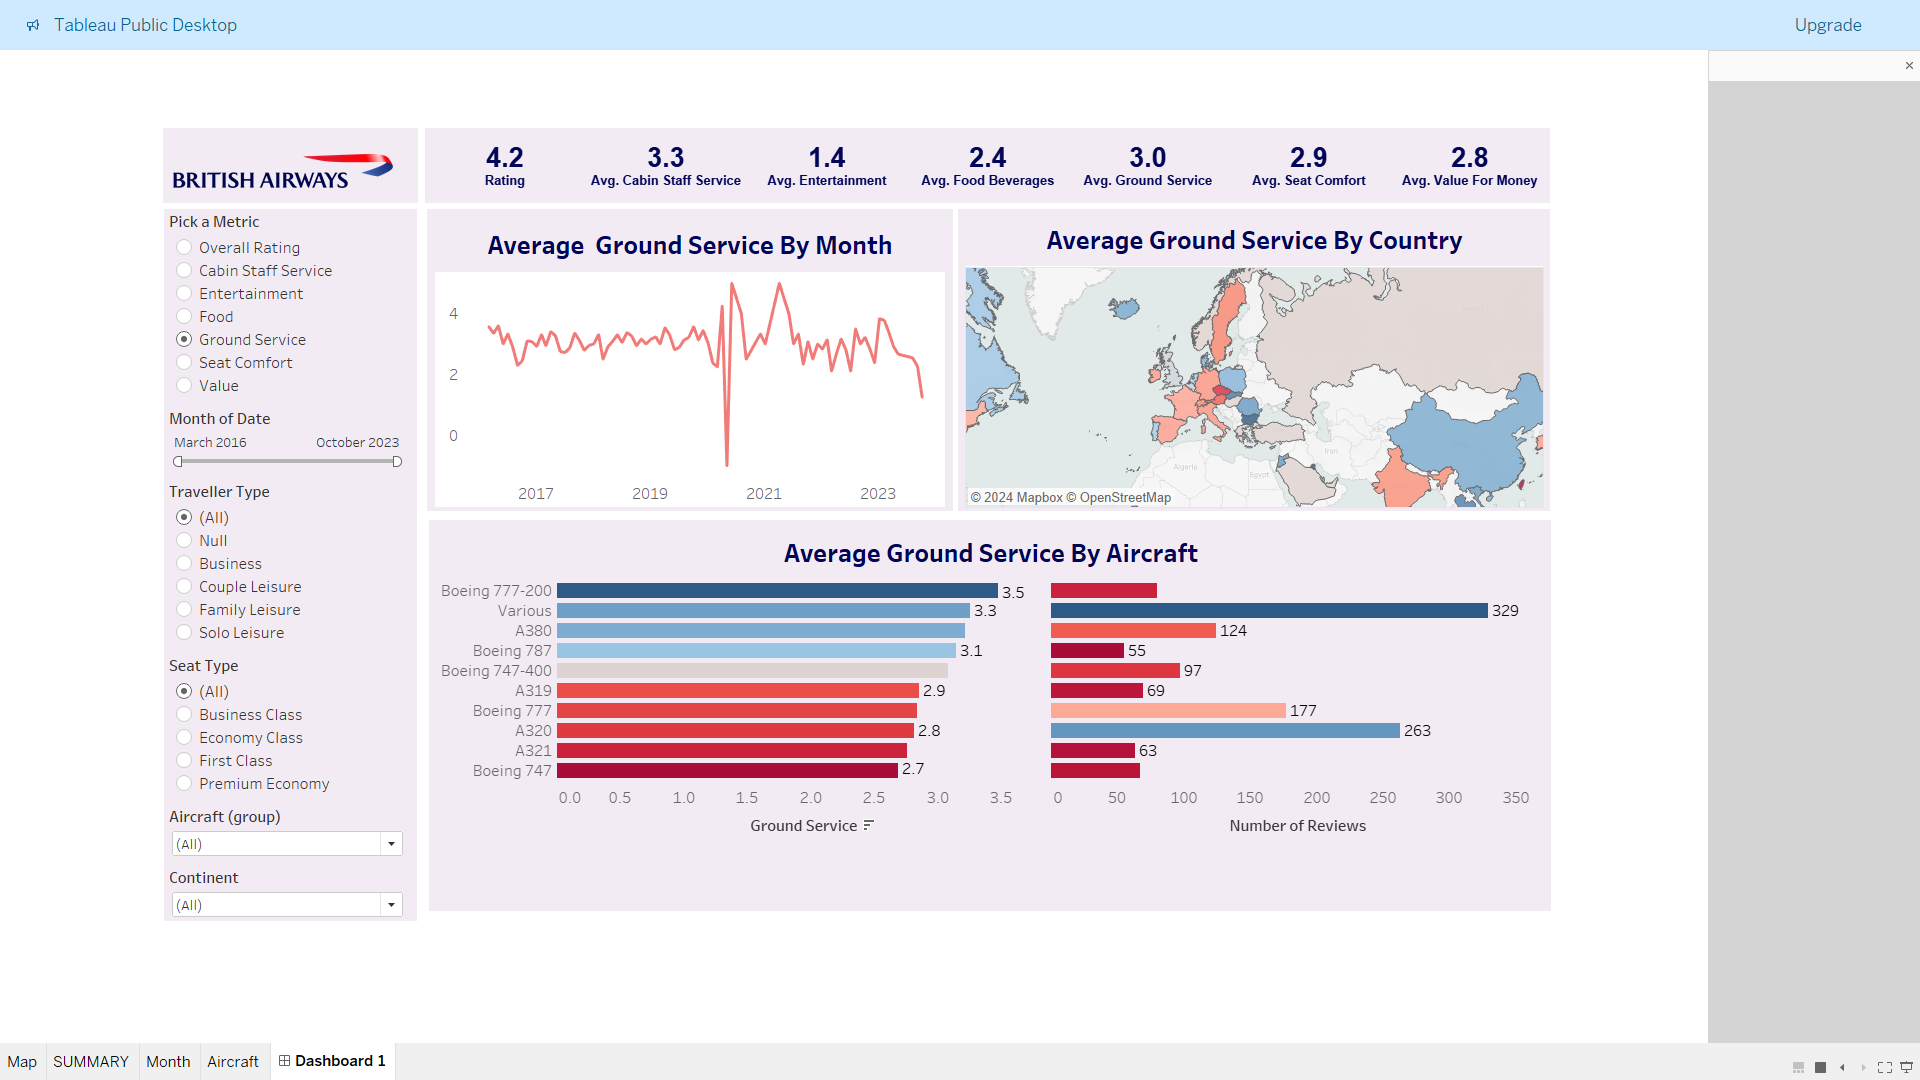

Layout of this report page (visuals, bound fields, positions):
{"tool":"tableau","page":{"name":"Dashboard 1","canvas":[1400,850],"ordinal":0},"visuals":[{"type":"blank","box":[5,3.2,263,82.9]},{"type":"worksheet","title":"SUMMARY","mark":"Automatic","box":[267,3.2,1133,82.9]},{"type":"image","param":"Image/kisspng-british-airways-salzburg-airport-airline-check-in-5ae44ee41b6136.6","box":[7,8.5,243,80.8]},{"type":"parameter","param":"[Parameters].[Parameter 1]","box":[11,85.7,245,197]},{"type":"blank","box":[10,88,253,712]},{"type":"blank","box":[273,88,526,302]},{"type":"blank","box":[804,88,592,302]},{"type":"worksheet","title":"Map","mark":"Multipolygon","box":[811,97,579,290]},{"type":"worksheet","title":"Month","mark":"Automatic","rows":["Calculation_1228075376476176384"],"cols":["date"],"box":[281,102,510,284]},{"type":"filter","title":"Map","param":"[federated.11w8srq1hapd9a16zyrw60xeq5wv].[tmn:date:qk]","box":[11,282.7,245,73]},{"type":"filter","title":"Map","param":"[federated.11w8srq1hapd9a16zyrw60xeq5wv].[none:traveller_type:nk]","box":[11,355.7,245,174]},{"type":"blank","box":[275,399,1122,391]},{"type":"worksheet","title":"Aircraft","mark":"Automatic","cols":["Calculation_1228075376476176384","ba_reviews.csv_7F308C2C09A4468E8A3DF4DBD58DF157"],"box":[283,410,1108,377]},{"type":"filter","title":"Map","param":"[federated.11w8srq1hapd9a16zyrw60xeq5wv].[none:seat_type:nk]","box":[11,529.7,245,151]},{"type":"filter","title":"Map","param":"[federated.11w8srq1hapd9a16zyrw60xeq5wv].[Aircraft (group)]","box":[11,680.7,245,61]},{"type":"filter","title":"Map","param":"[federated.11w8srq1hapd9a16zyrw60xeq5wv].[none:Continent:nk]","box":[11,741.7,245,61]}]}

Visuals, with their boxes on the page's 1400x850 design canvas (x1, y1, x2, y2). These are canvas units, not pixel positions in the 1920x1080 screenshot, which may show the page scaled, cropped or inside an application window:
blank: <bbox>5, 3, 268, 86</bbox>
"SUMMARY" worksheet: <bbox>267, 3, 1400, 86</bbox>
image: <bbox>7, 8, 250, 89</bbox>
parameter: <bbox>11, 86, 256, 283</bbox>
blank: <bbox>10, 88, 263, 800</bbox>
blank: <bbox>273, 88, 799, 390</bbox>
blank: <bbox>804, 88, 1396, 390</bbox>
"Map" worksheet (Multipolygon marks): <bbox>811, 97, 1390, 387</bbox>
"Month" worksheet: <bbox>281, 102, 791, 386</bbox>
"Map" filter: <bbox>11, 283, 256, 356</bbox>
"Map" filter: <bbox>11, 356, 256, 530</bbox>
blank: <bbox>275, 399, 1397, 790</bbox>
"Aircraft" worksheet: <bbox>283, 410, 1391, 787</bbox>
"Map" filter: <bbox>11, 530, 256, 681</bbox>
"Map" filter: <bbox>11, 681, 256, 742</bbox>
"Map" filter: <bbox>11, 742, 256, 803</bbox>
